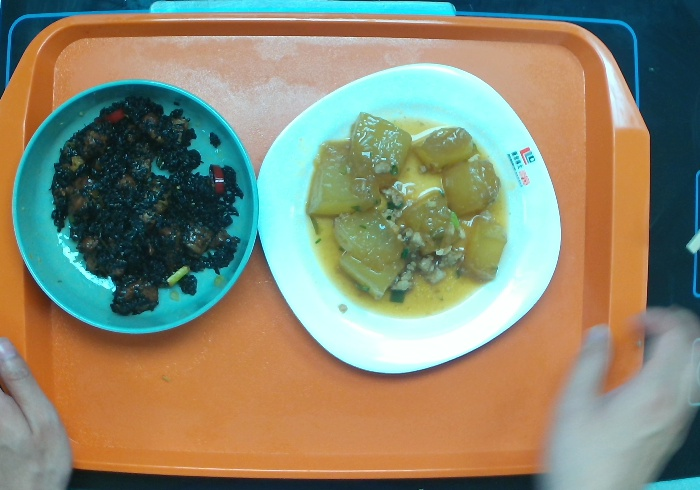ZNLD-Qing_Hua_Yuan_Wan: (16, 79, 264, 341)
ZNLD-Yuan_Jiao_Pan: (247, 54, 571, 379)
